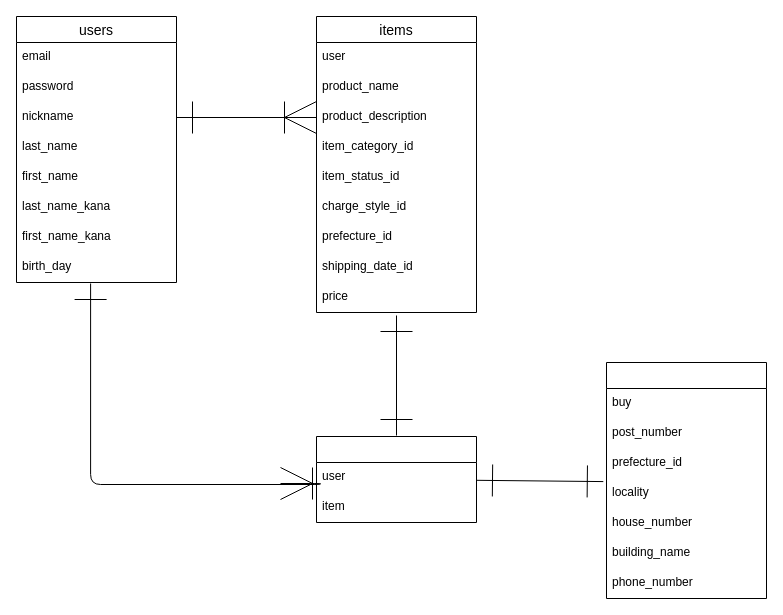
The diagram is 783 pixels wide and 615 high, and some of its shapes have lost their labels. The box of each missing label's shape, as (x1, y1, x2, y2) in pixels:
addresses: (606, 362, 766, 598)
buys: (316, 436, 476, 522)
